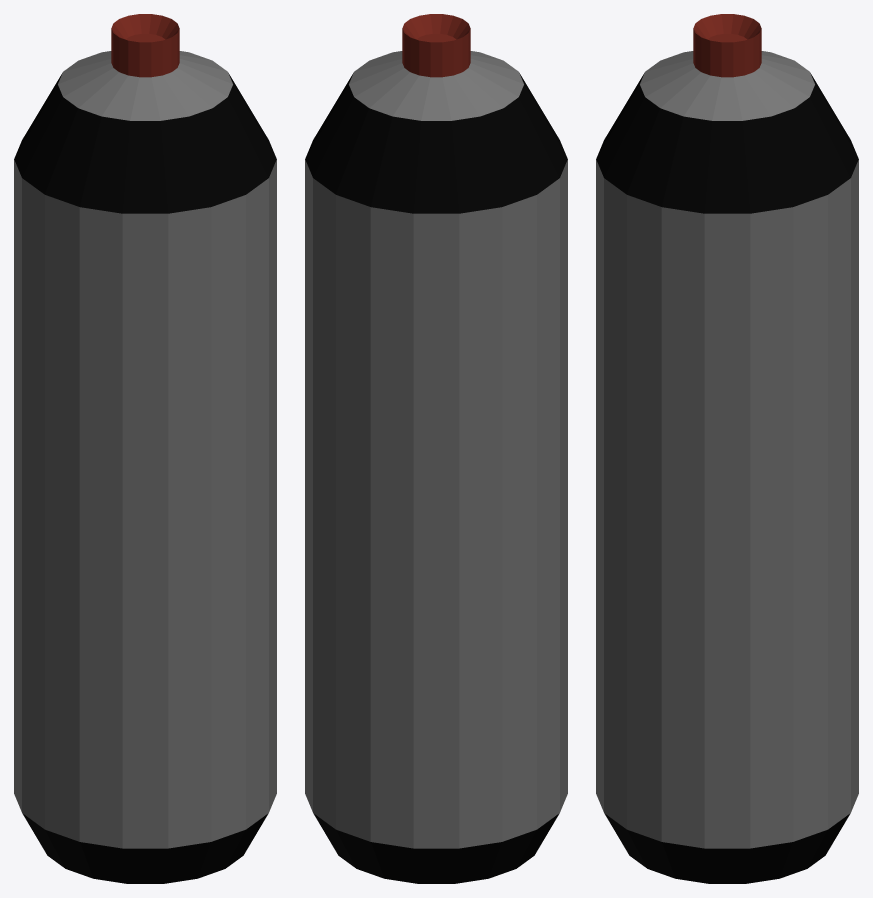
The model's file is Canister.fbx.
3 views of the same model, side by side, from view 1: azimuth 30°, elevation 25°; view 2: azimuth 150°, elevation 25°; view 3: azimuth 270°, elevation 25° (orthographic).
Visible parts, largest first — view 1: Cylinder; view 2: Cylinder; view 3: Cylinder.
Part boxes in pixels (x1,y1,x2,y2): Cylinder: [14, 14, 276, 883]; Cylinder: [305, 14, 567, 883]; Cylinder: [596, 14, 858, 883].
Bounding box in the file's own units: 197 × 682 × 200.
